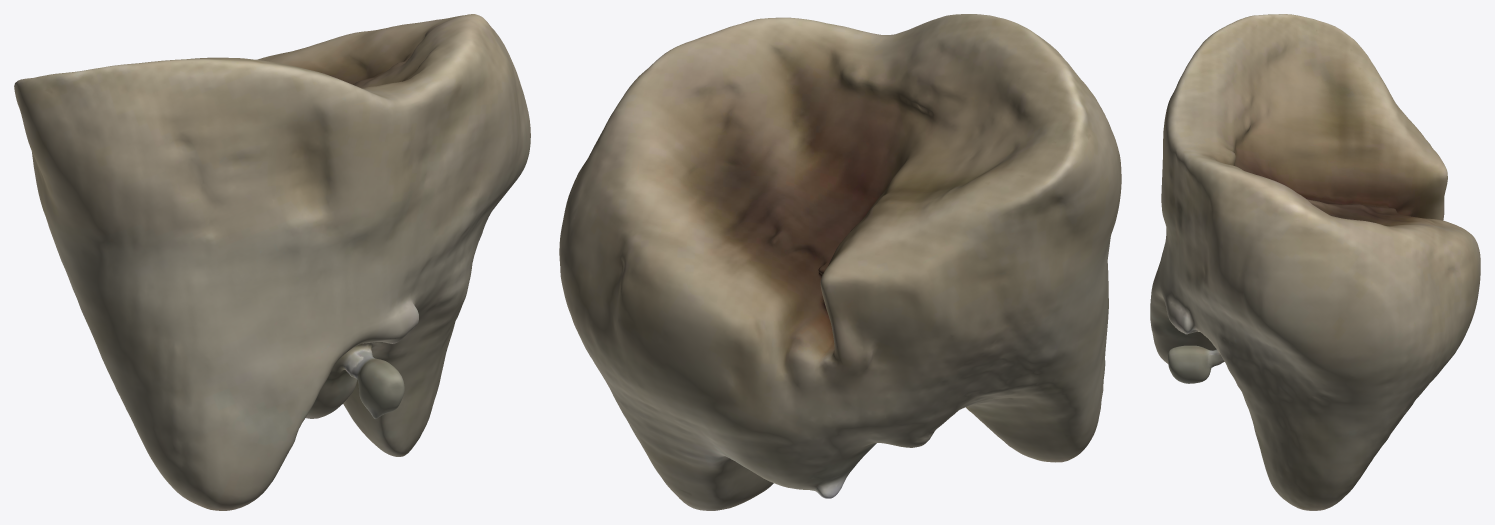
File: saprodontia.glb
3 renders of one model, left to right at view 1: azimuth 30°, elevation 25°; view 2: azimuth 150°, elevation 25°; view 3: azimuth 270°, elevation 25°, orthographic. The views are drawn at different scales.
Parts seen in each view (by area): view 1: world; view 2: world; view 3: world.
Part boxes in pixels (x1,y1,x2,y2): world: (14, 14, 530, 510); world: (559, 14, 1121, 510); world: (1150, 14, 1480, 510).
Bounding box in the file's own units: 0.5071 × 0.4922 × 0.3856.
1 material, 1 textured.
